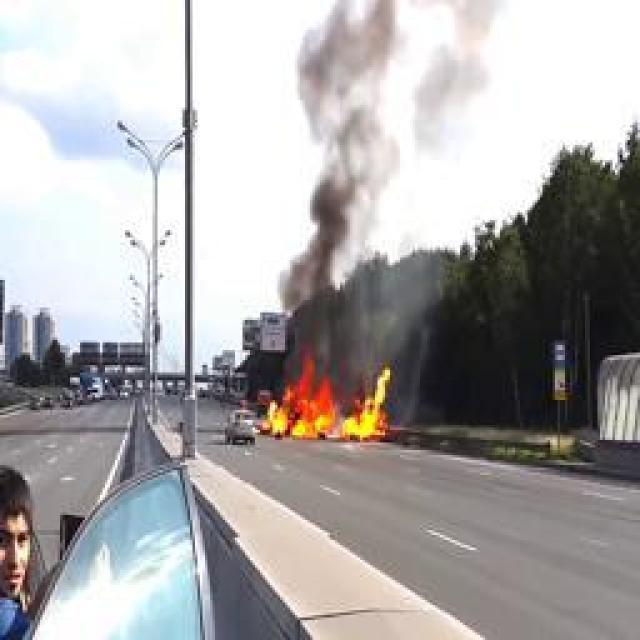Fire: (265, 350, 393, 438)
